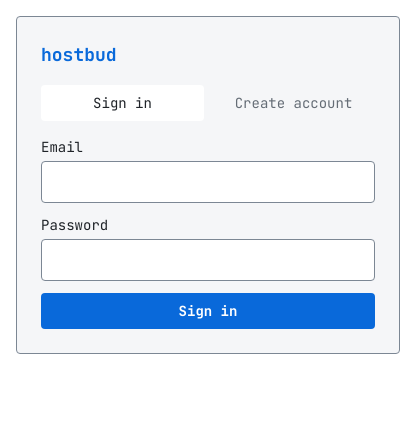
Test: AuthView › shows Retry-After when throttled
In the field labelled "Email": (208, 182) [41, 161, 375, 203], type "person@example.com"
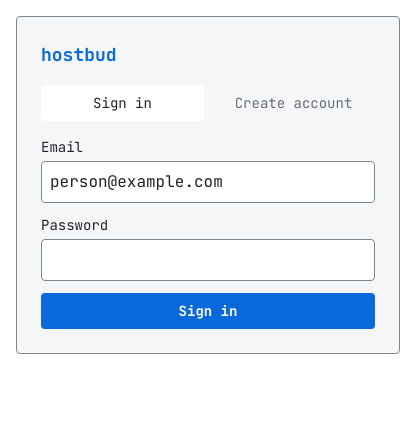
In the password field labelled "Password": (208, 260) [41, 239, 375, 281], type "wrong password!"
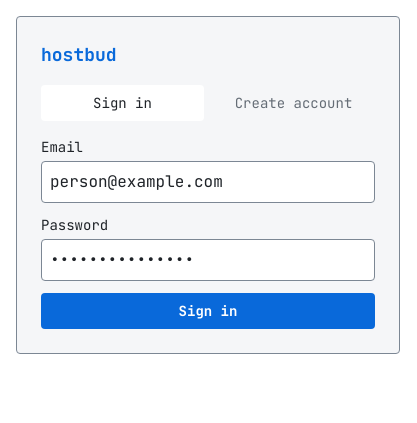
Submit the form, box [41, 137, 375, 329]
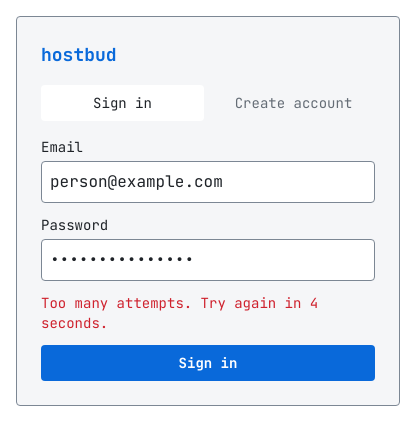
expect the message "Too many attempts. Try again in 4 seconds." is shown: met, box [41, 294, 318, 332]
